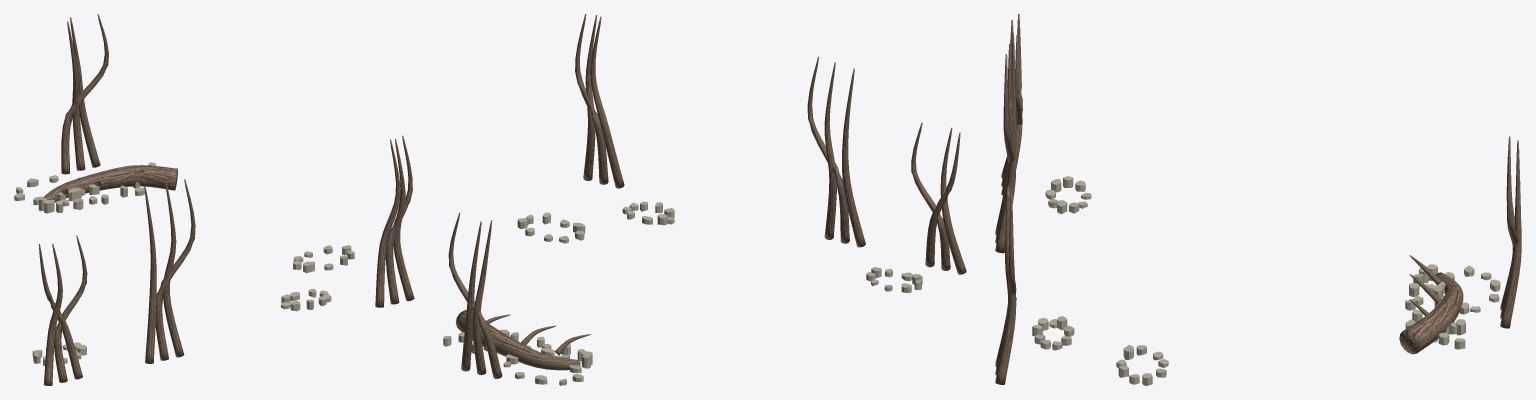
Rendered from R2_UniqueLandmarks.fbx.
3 renders of one model, left to right at view 1: azimuth 30°, elevation 25°; view 2: azimuth 150°, elevation 25°; view 3: azimuth 270°, elevation 25°, orthographic. The views are drawn at different scales.
Visible parts, largest first — view 1: R2_UniqueLandmarks; view 2: R2_UniqueLandmarks; view 3: R2_UniqueLandmarks.
Part boxes in pixels (<box>): R2_UniqueLandmarks: <box>14,14,414,385</box>; R2_UniqueLandmarks: <box>443,14,966,385</box>; R2_UniqueLandmarks: <box>995,14,1521,385</box>.
Size of the model in its own units: 33.79 by 15.33 by 35.45.
